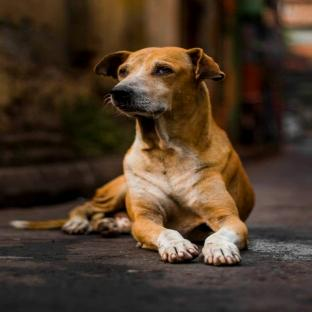Animal: (11, 47, 254, 265)
